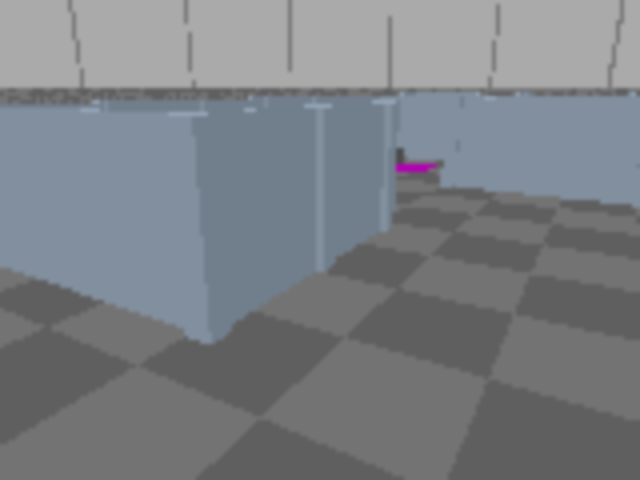goal_zone: (369, 161, 438, 174)
